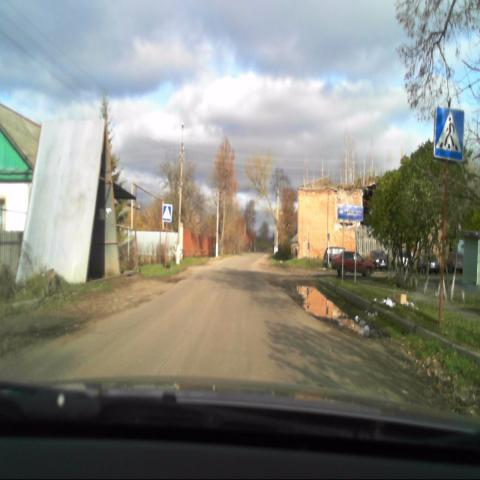5_19_1: (434, 106, 464, 163), (162, 204, 172, 222)
